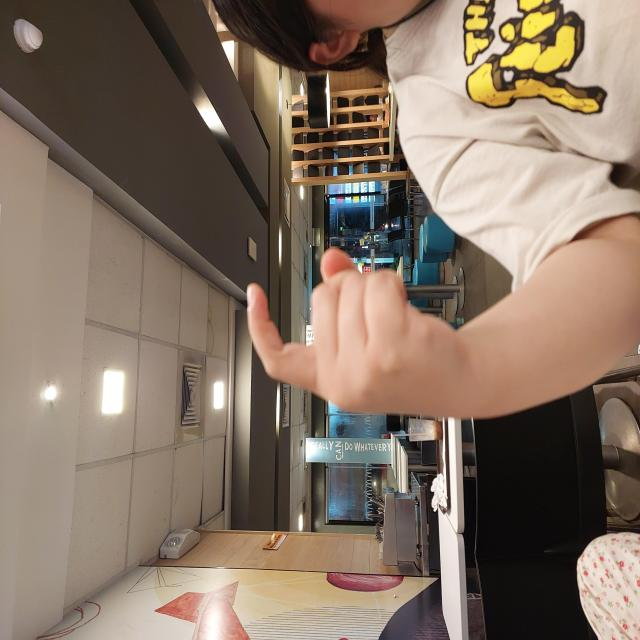X: (219, 244, 396, 466)
